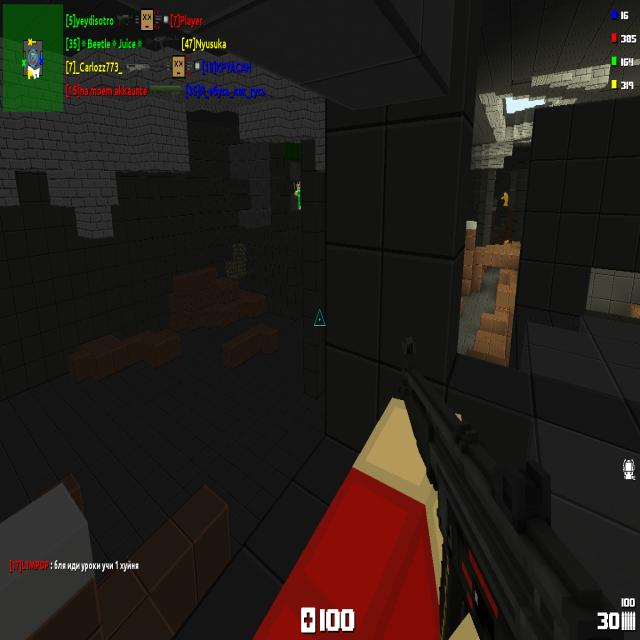enemy: (294, 179, 301, 211), (501, 190, 508, 207), (504, 240, 509, 244)
